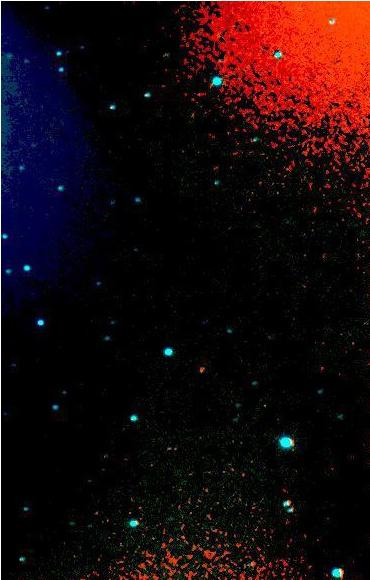star: (185, 356, 215, 386)
